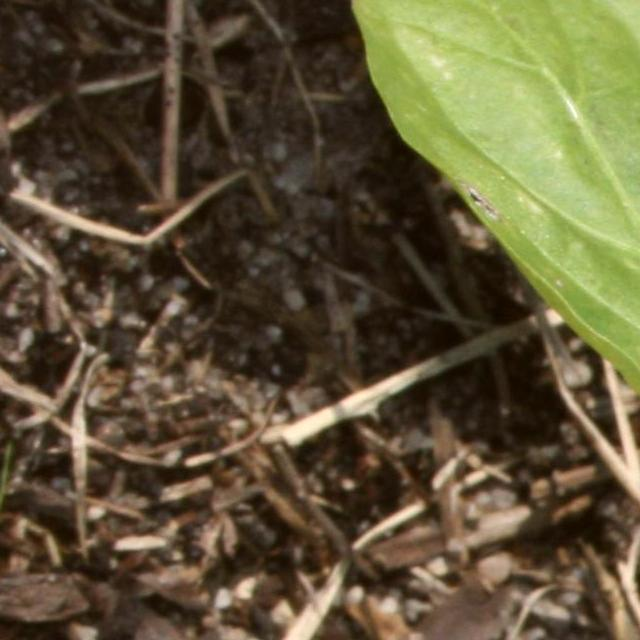Tomato leaf: (350, 0, 640, 640)
